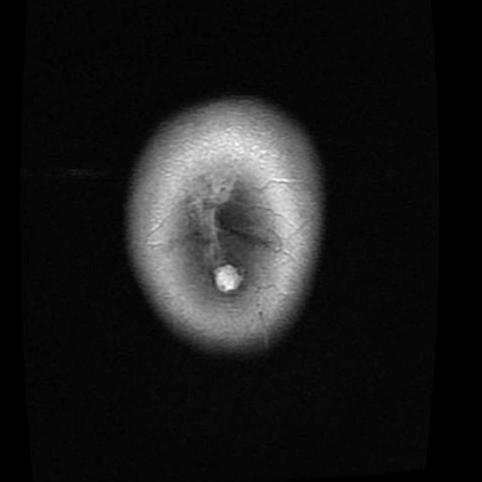Tumour-Pituitary: (207, 261, 255, 303)
